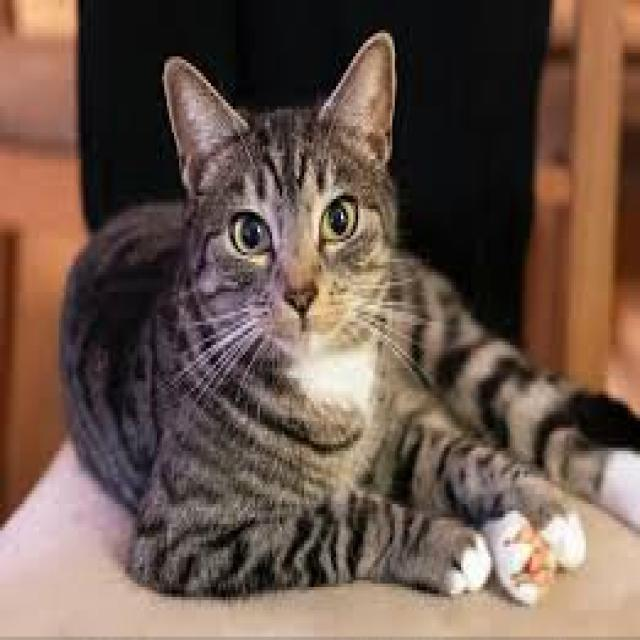cat: (61, 33, 638, 600)
